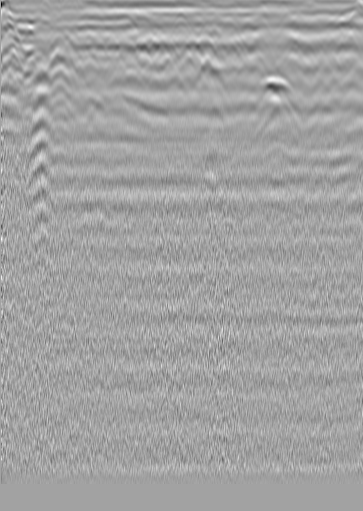가스: (261, 140, 295, 169)
상수: (4, 42, 24, 62)
오수: (320, 32, 340, 52)
우수: (157, 32, 177, 52)
